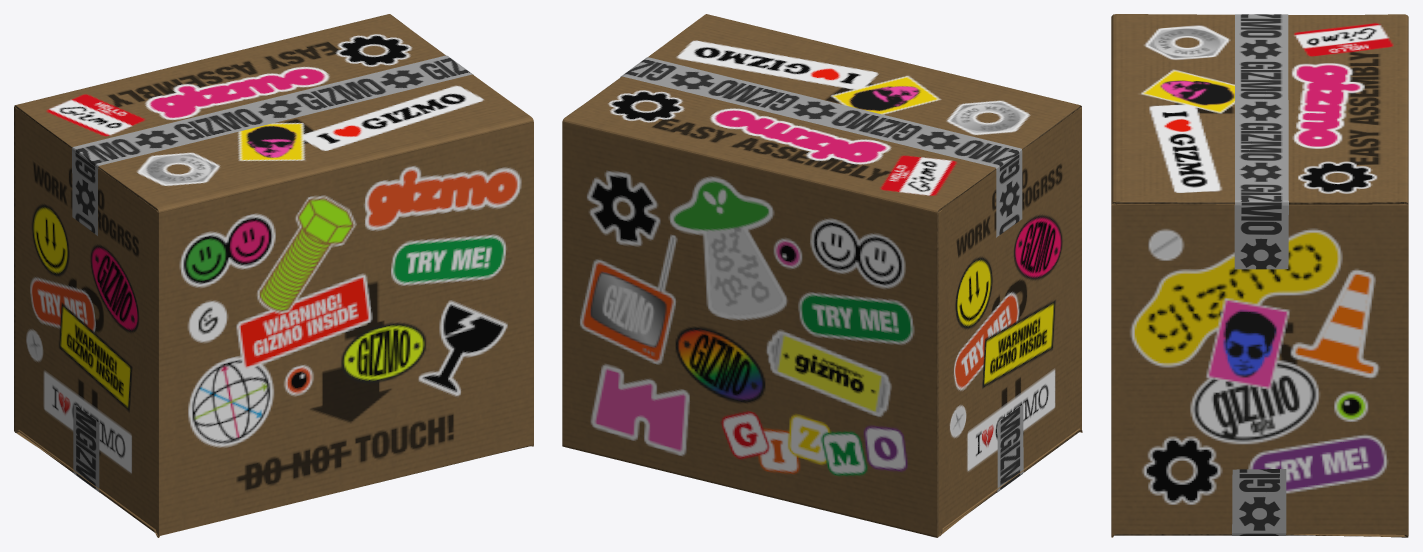
Rendered from gizmo-cardboard-box.glb.
The picture shows the model from 3 angles, left to right: view 1: azimuth 30°, elevation 25°; view 2: azimuth 150°, elevation 25°; view 3: azimuth 270°, elevation 25°; orthographic projection. The views are drawn at different scales.
Visible parts, largest first — view 1: cardboard_box_closed, TASMA 1, TASMA 2; view 2: cardboard_box_closed, TASMA 1, TASMA 2; view 3: cardboard_box_closed, TASMA 1, TASMA 2.
Boxes of the visible parts, x1=… form: cardboard_box_closed: x1=14, y1=14, x2=533, y2=537; TASMA 1: x1=72, y1=55, x2=473, y2=235; TASMA 2: x1=73, y1=404, x2=99, y2=492; cardboard_box_closed: x1=562, y1=14, x2=1082, y2=537; TASMA 1: x1=620, y1=57, x2=1022, y2=237; TASMA 2: x1=997, y1=404, x2=1023, y2=492; cardboard_box_closed: x1=1111, y1=14, x2=1408, y2=537; TASMA 1: x1=1234, y1=14, x2=1288, y2=269; TASMA 2: x1=1232, y1=469, x2=1286, y2=535.
Bounding box in the file's own units: 30.06 × 25 × 20.
4 materials, 4 textured.
